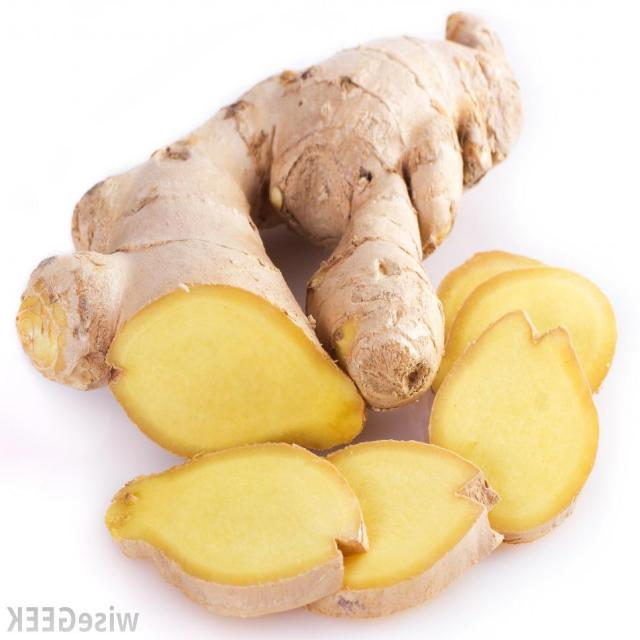Ginger: (11, 0, 618, 640), (70, 416, 372, 604)
